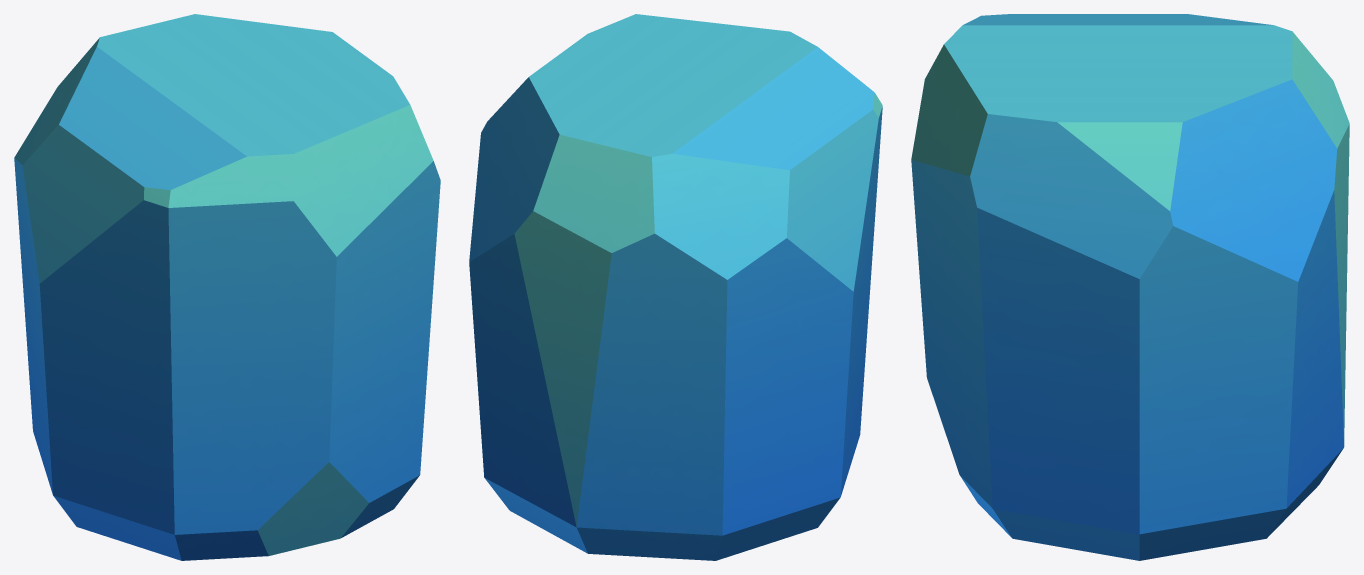
The model's file is Ore_Piece_03.fbx.
The picture shows the model from 3 angles, left to right: view 1: azimuth 30°, elevation 25°; view 2: azimuth 150°, elevation 25°; view 3: azimuth 270°, elevation 25°; orthographic projection. The views are drawn at different scales.
Parts seen in each view (by area): view 1: Ore_Piece_03; view 2: Ore_Piece_03; view 3: Ore_Piece_03.
Part boxes in pixels (<box>): Ore_Piece_03: <box>14,14,440,560</box>; Ore_Piece_03: <box>469,14,882,560</box>; Ore_Piece_03: <box>911,14,1349,560</box>.
Bounding box in the file's own units: 0.4965 × 0.5195 × 0.4834.
